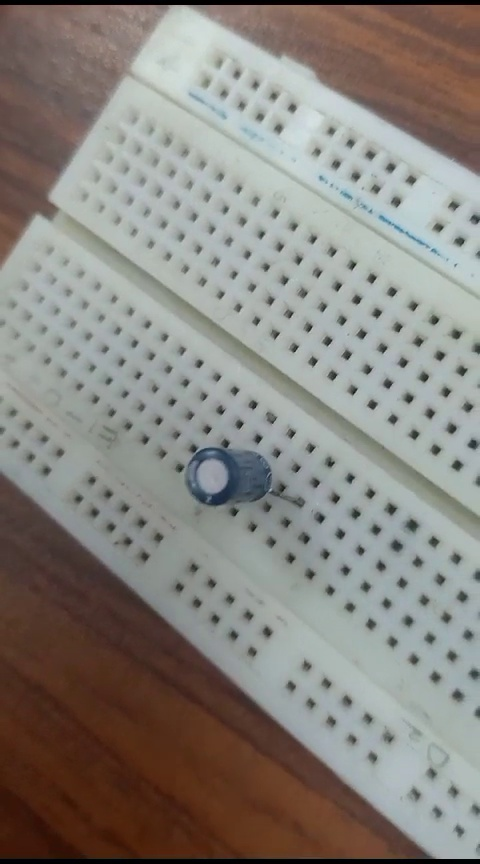capacitor: (165, 437, 296, 528)
